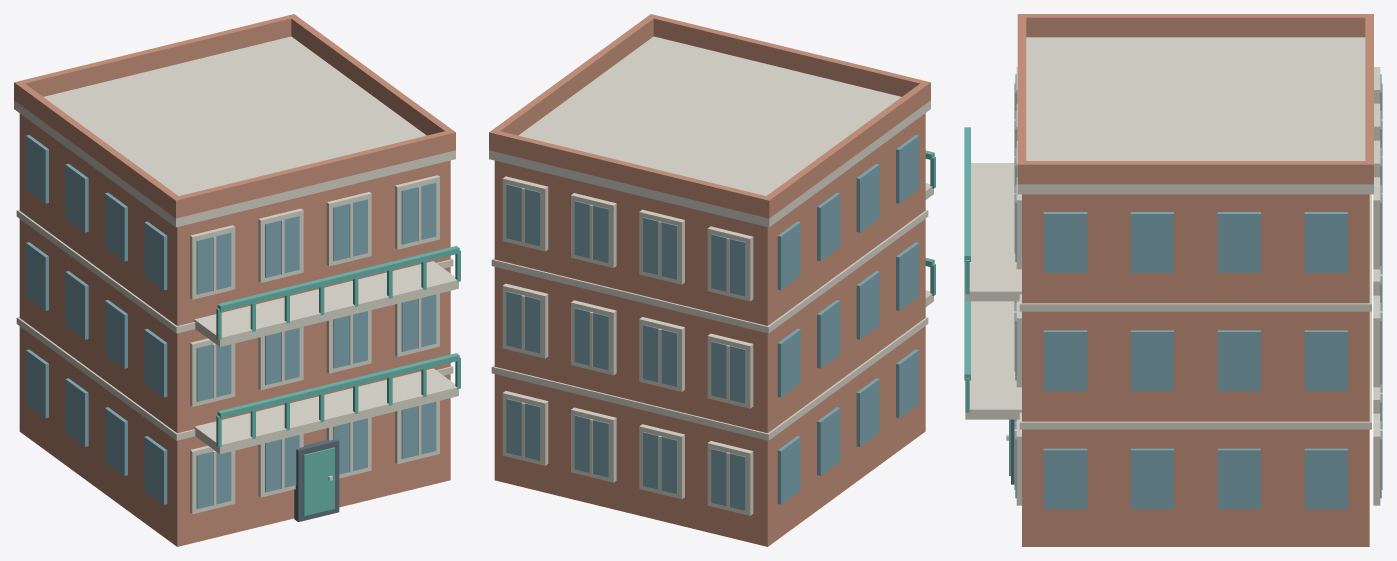
3 renders of one model, left to right at view 1: azimuth 30°, elevation 25°; view 2: azimuth 150°, elevation 25°; view 3: azimuth 270°, elevation 25°, orthographic. The views are drawn at different scales.
Parts seen in each view (by area): view 1: balcony-walkup-brick, balcony-walkup-concrete, balcony-walkup-glass, balcony-walkup-accent, balcony-walkup-dark; view 2: balcony-walkup-brick, balcony-walkup-concrete, balcony-walkup-glass; view 3: balcony-walkup-brick, balcony-walkup-concrete, balcony-walkup-glass, balcony-walkup-accent.
Boxes of the visible parts, <box> form: balcony-walkup-brick: <box>14,14,455,546</box>; balcony-walkup-concrete: <box>14,36,458,514</box>; balcony-walkup-glass: <box>26,135,436,508</box>; balcony-walkup-accent: <box>216,246,460,516</box>; balcony-walkup-dark: <box>294,439,339,521</box>; balcony-walkup-brick: <box>489,14,930,546</box>; balcony-walkup-concrete: <box>489,36,933,515</box>; balcony-walkup-glass: <box>506,135,918,510</box>; balcony-walkup-brick: <box>1017,14,1373,546</box>; balcony-walkup-concrete: <box>965,37,1382,505</box>; balcony-walkup-glass: <box>1015,74,1381,509</box>; balcony-walkup-accent: <box>964,127,1010,475</box>.
Size of the model in its own units: 8.2 by 9.75 by 9.62.
